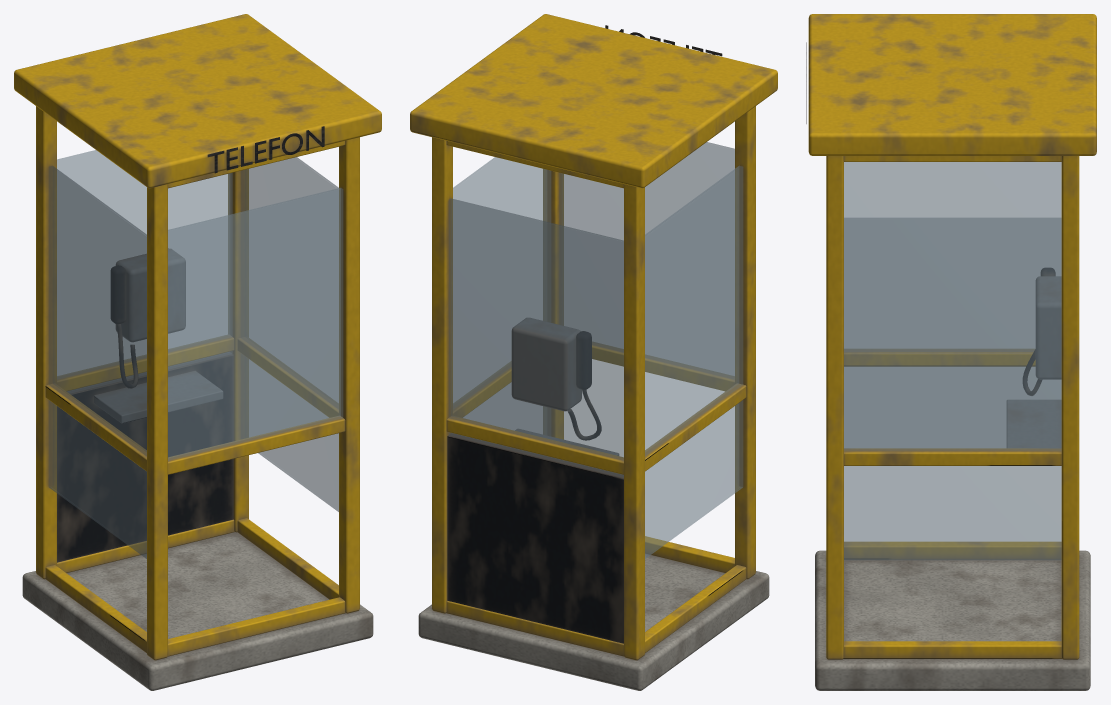
File: budka_telefon.glb
3 views of the same model, side by side, from view 1: azimuth 30°, elevation 25°; view 2: azimuth 150°, elevation 25°; view 3: azimuth 270°, elevation 25° (orthographic). The views are drawn at different scales.
Visible parts, largest first — view 1: BudkaTel, Szyby, Napisy; view 2: BudkaTel, Szyby; view 3: BudkaTel, Szyby.
Part boxes in pixels (x1,y1,x2,y2): BudkaTel: [14, 14, 381, 690]; Szyby: [49, 150, 342, 558]; Napisy: [207, 126, 324, 173]; BudkaTel: [410, 14, 777, 690]; Szyby: [449, 142, 742, 558]; BudkaTel: [808, 14, 1096, 690]; Szyby: [844, 162, 1061, 560].
Bounding box in the file's own units: 1.15 × 2.47 × 1.16.
4 materials, 2 textured.
